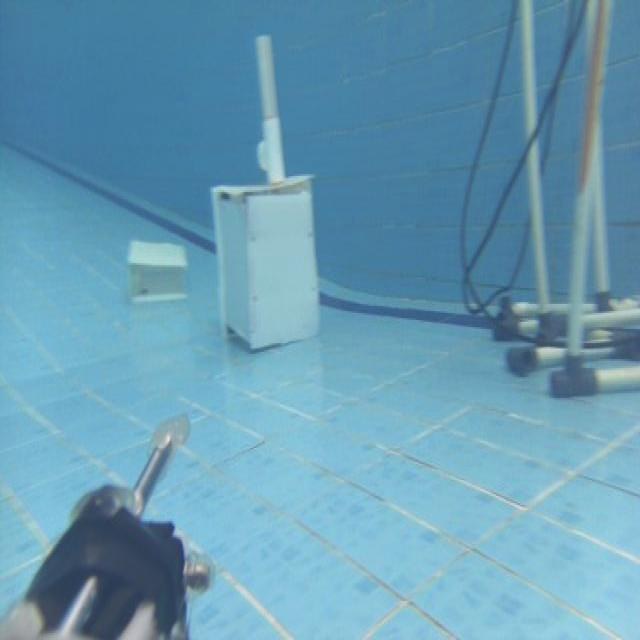Cube: (209, 172, 321, 352)
Cuboid: (126, 236, 188, 302)
